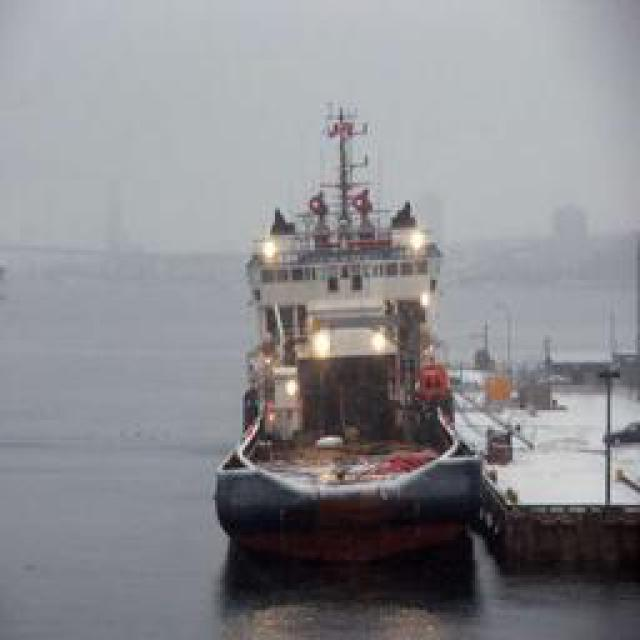Ship: (220, 95, 483, 568)
